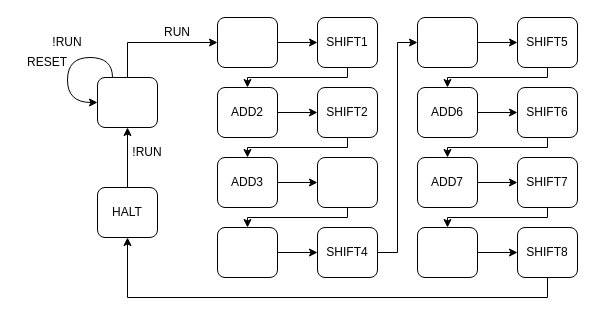
Image size: 595x323. Some labels were removed from this diagram. The shapes that lost their labels are listed below. From the top down, each one's box as (x1, y1, x2, y2) in pixels, then its label:
(216, 16, 278, 68): ADD1
(416, 16, 478, 68): ADD5
(96, 76, 158, 128): HOLD
(316, 156, 378, 208): SHIFT3
(216, 226, 278, 278): ADD4
(416, 226, 478, 278): SUB8
